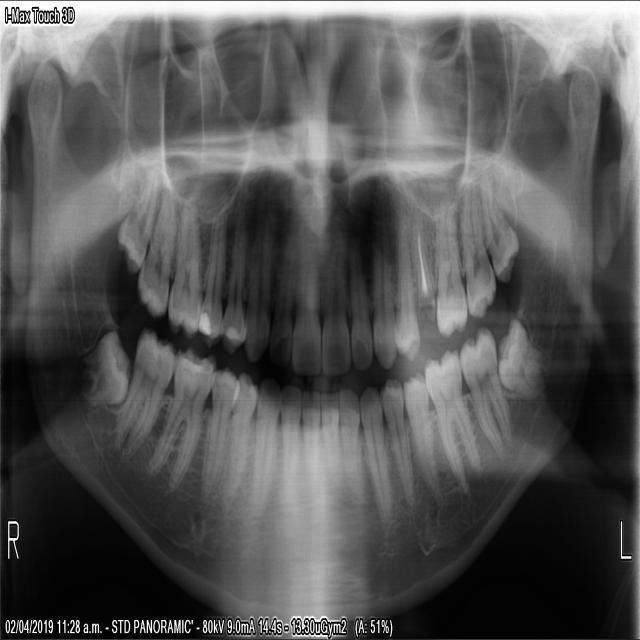LCD: (355, 383, 391, 531)
LCU: (370, 212, 398, 373)
LID: (336, 384, 365, 505), (317, 389, 340, 524)
LIU: (319, 227, 350, 378), (348, 227, 373, 373)
LMD: (421, 343, 479, 495), (456, 323, 512, 461), (495, 313, 550, 401)
LMU: (432, 188, 468, 341), (461, 176, 496, 320), (479, 163, 520, 283)
LPMD: (400, 366, 442, 512), (377, 377, 414, 512)
LPMU: (392, 208, 420, 364), (410, 199, 435, 324)
RCD: (247, 372, 282, 521)
RID: (276, 380, 300, 536), (298, 389, 320, 530)
RIU: (289, 220, 321, 377), (266, 219, 299, 369)
RMD: (145, 347, 215, 489), (114, 324, 175, 460), (74, 328, 130, 407)
RMU: (134, 189, 178, 318), (165, 197, 203, 339), (114, 169, 159, 273)
RPMD: (200, 363, 240, 494), (225, 369, 258, 499)
RPMU: (240, 191, 273, 365), (195, 199, 226, 349), (218, 203, 247, 357)
